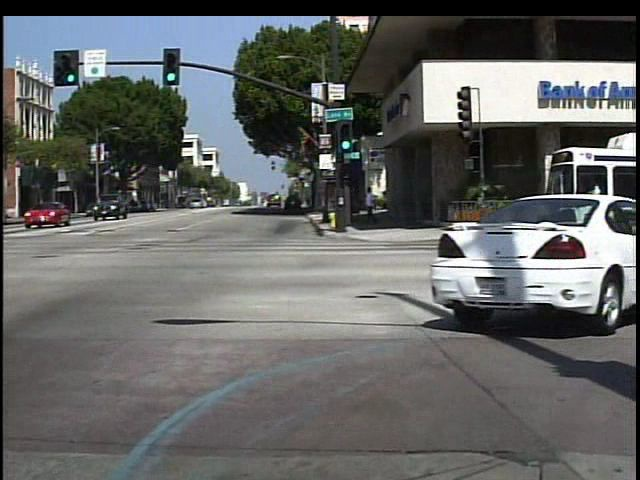person: (362, 181, 382, 225)
